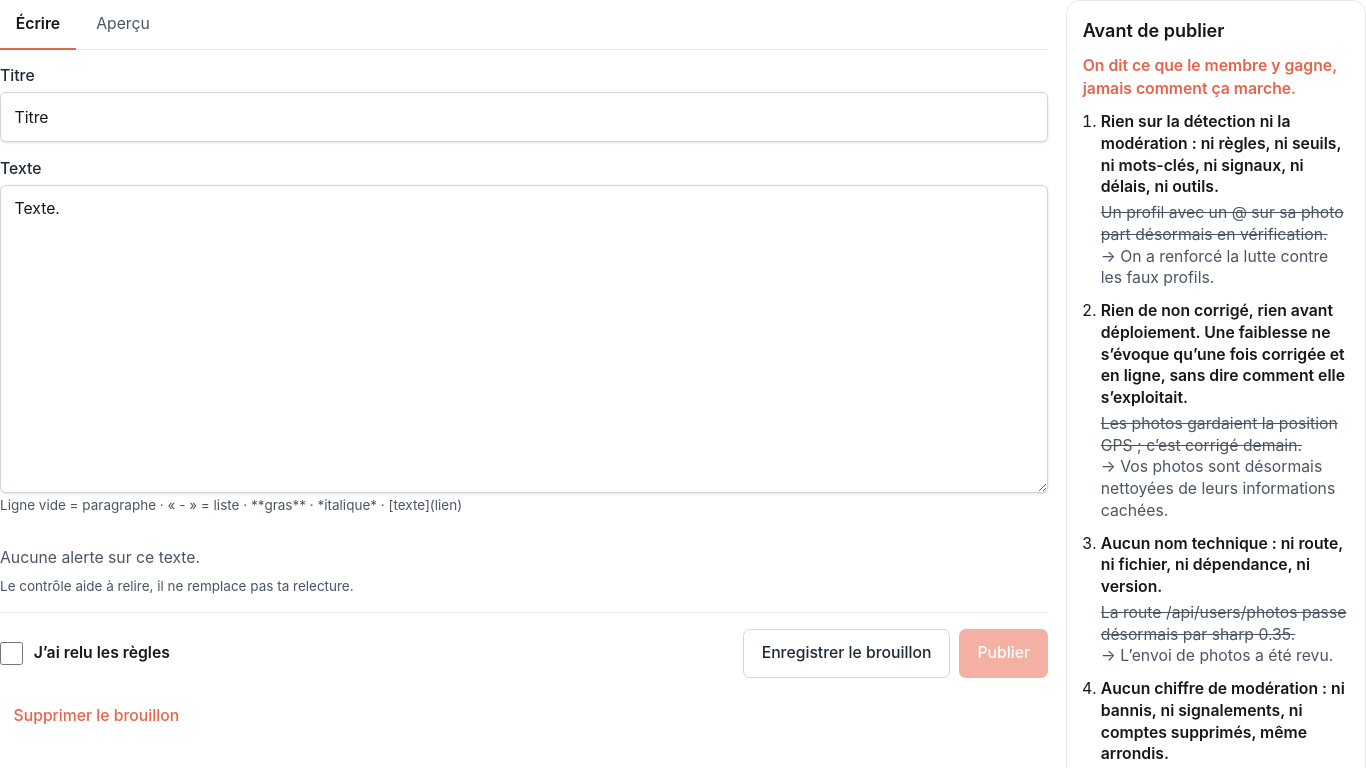
Test: <JournalEditeur /> › un refus du serveur (422) s’affiche et met à jour les alertes
Expected: the text "Aucune alerte sur ce texte." is shown, [0,548,200,567]
Click the checkbox labelled "J’ai relu les règles" at [11, 654], box [0,642,22,665]
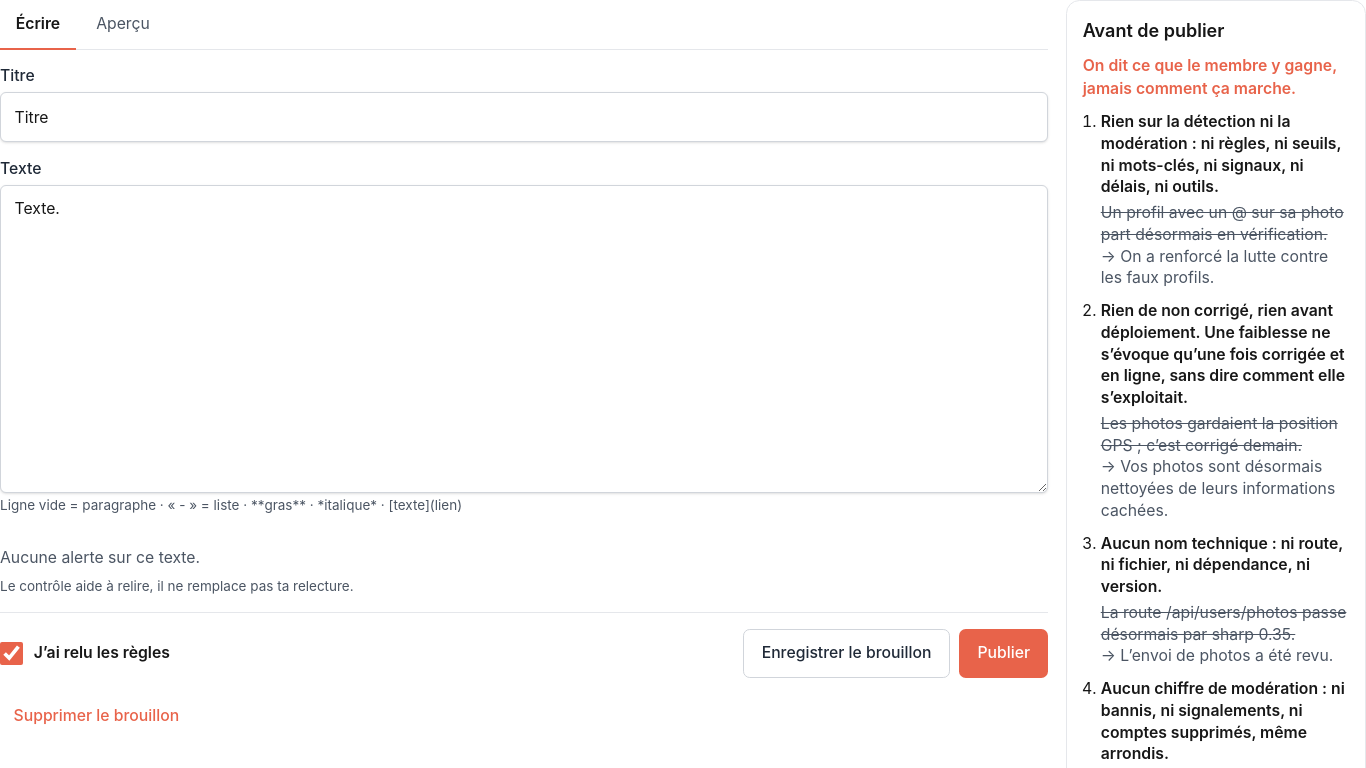
Click the button "Publier" at [1004, 654], box [959,629,1048,678]
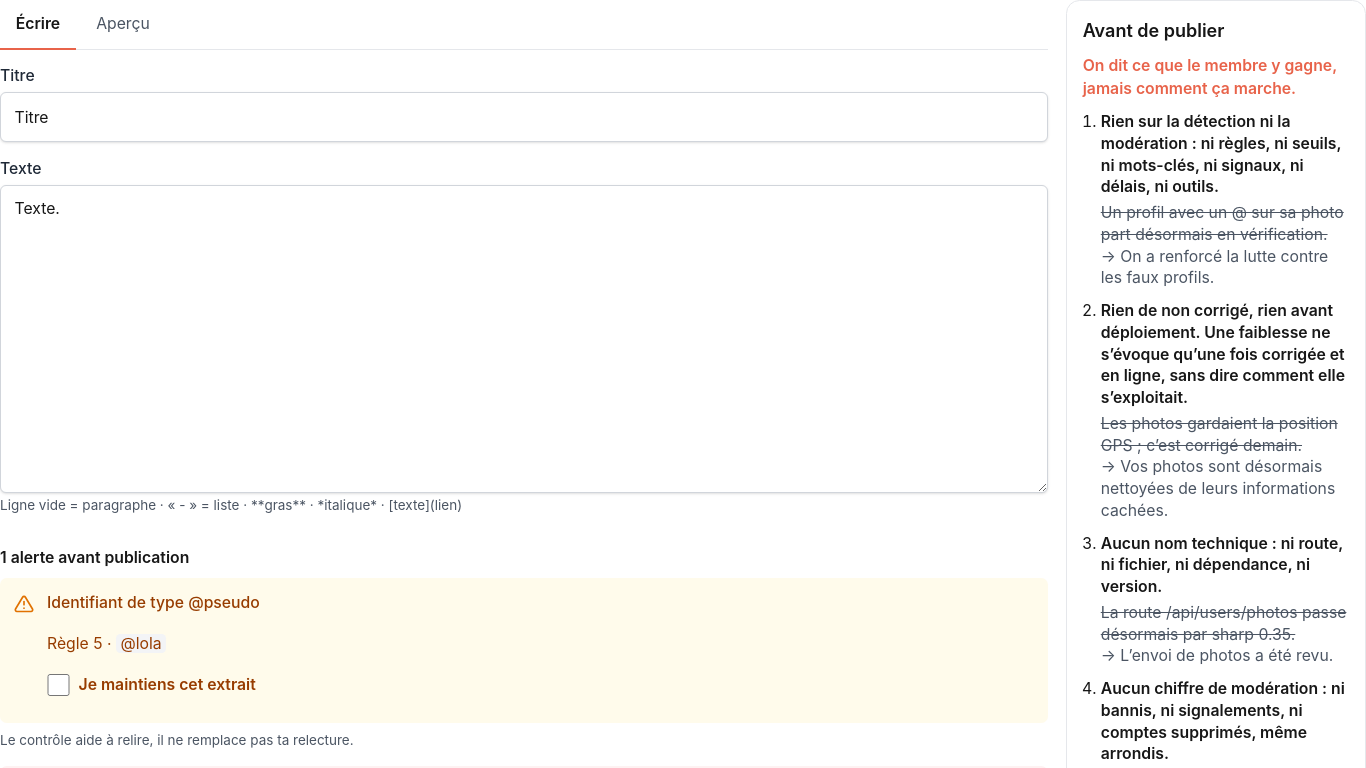
Now the text "Identifiant de type @pseudo" is shown, box [47,593,260,612]
